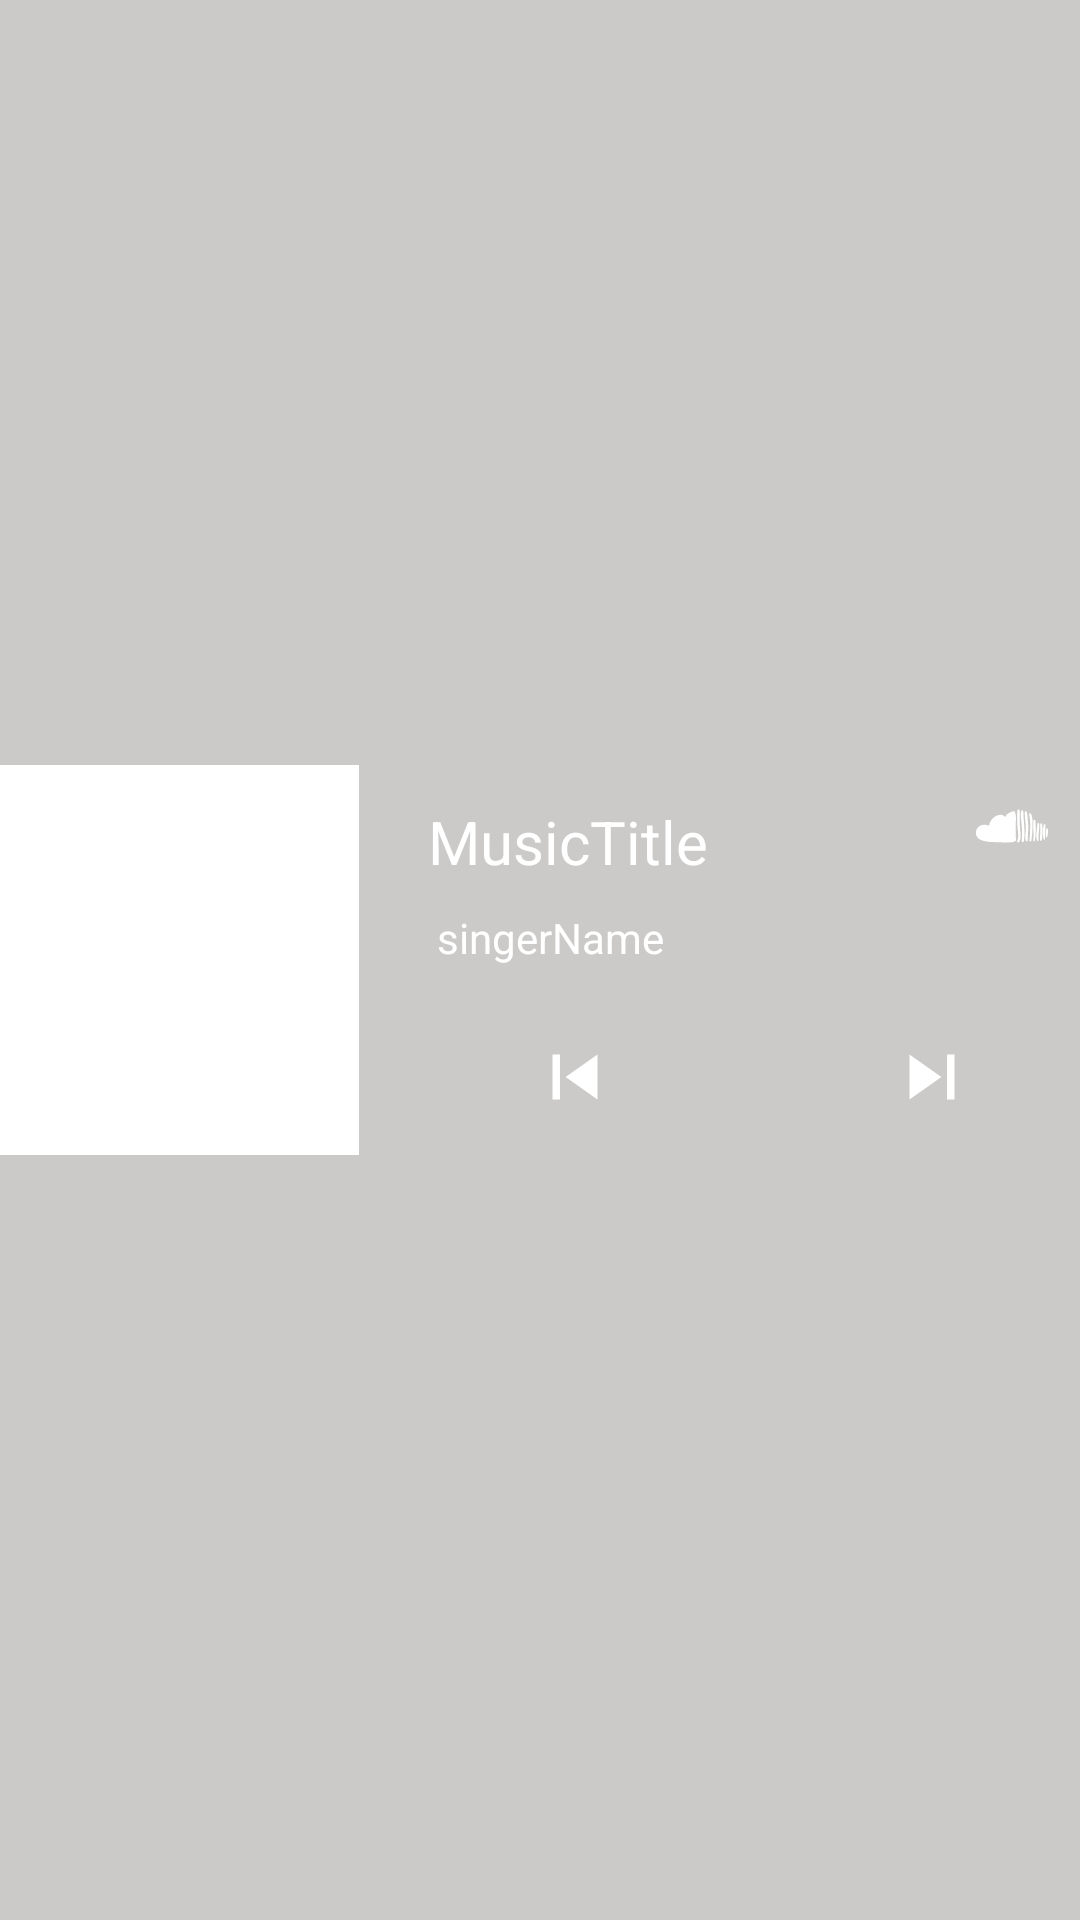

Icon bounding boxes for this 1080 × 1920 phone screenshot, format (x1=x1, y1=y1, x2=x2, y2=y2):
next song: (x1=909, y1=1054, x2=955, y2=1100)
previous song: (x1=552, y1=1054, x2=598, y2=1100)
